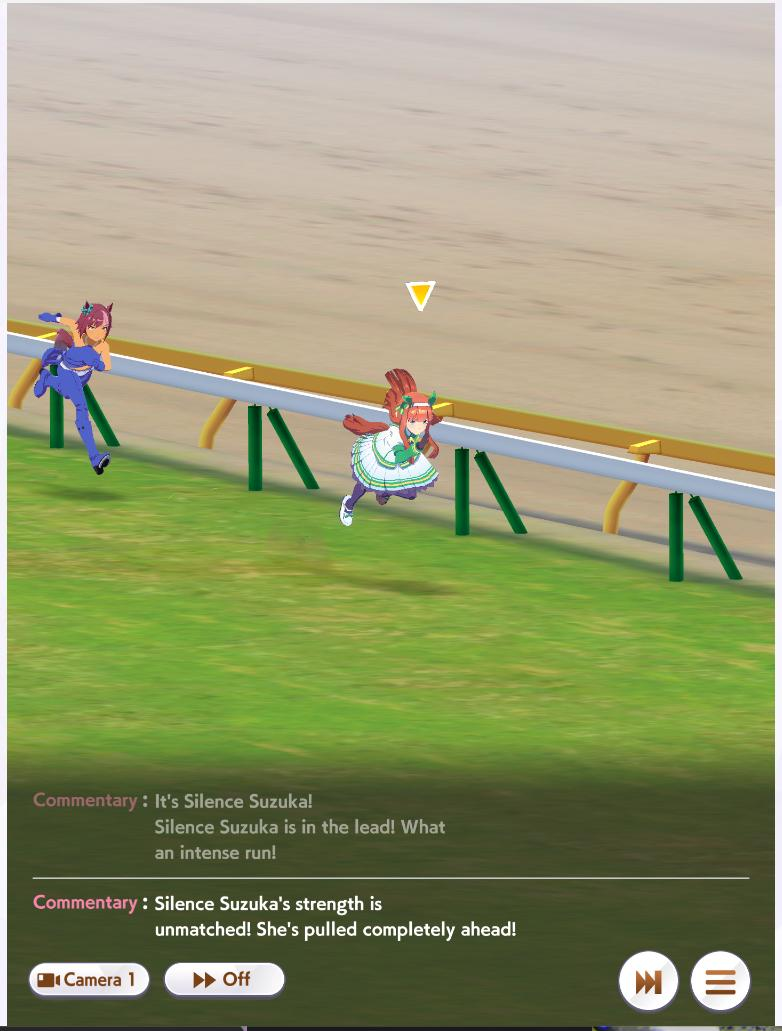skip: (615, 945, 679, 1010)
